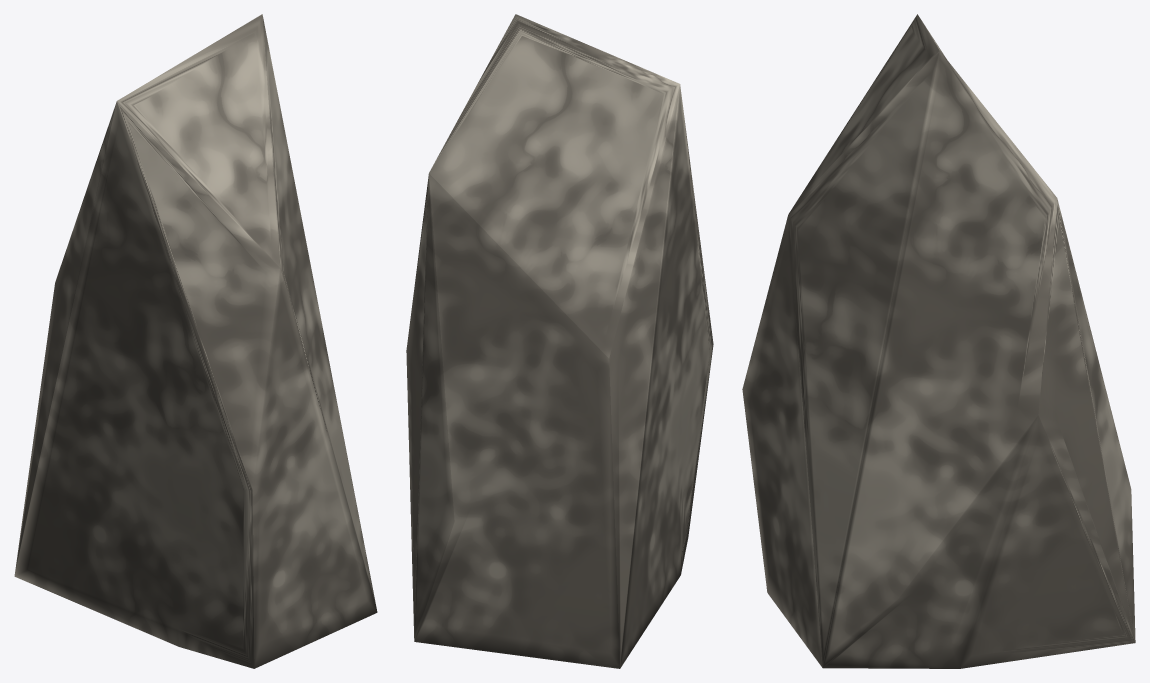
Rendered from standing_stone_lp1.gltf.
3 views of the same model, side by side, from view 1: azimuth 30°, elevation 25°; view 2: azimuth 150°, elevation 25°; view 3: azimuth 270°, elevation 25° (orthographic). The views are drawn at different scales.
Parts seen in each view (by area): view 1: standing_stone_lp1_stone_LOD0; view 2: standing_stone_lp1_stone_LOD0; view 3: standing_stone_lp1_stone_LOD0.
Part boxes in pixels (bbox=[...]): standing_stone_lp1_stone_LOD0: bbox=[14, 14, 377, 668]; standing_stone_lp1_stone_LOD0: bbox=[406, 14, 713, 668]; standing_stone_lp1_stone_LOD0: bbox=[742, 14, 1135, 668].
Size of what is drawn, in the model's own units: 0.5622 by 1.25 by 0.7541.
Materials: 1 (1 with a texture image).
